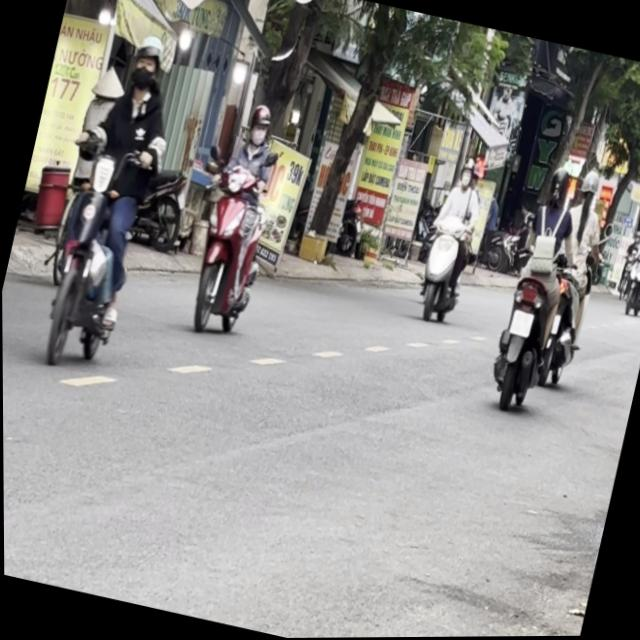helmet: (125, 29, 169, 92), (244, 101, 273, 147), (543, 163, 572, 206), (574, 165, 601, 205), (454, 155, 476, 190)
licenseplate: (21, 15, 191, 377), (176, 93, 296, 343), (478, 154, 589, 413), (522, 161, 620, 392), (406, 147, 492, 325)
nohelmet: (507, 307, 532, 336)
